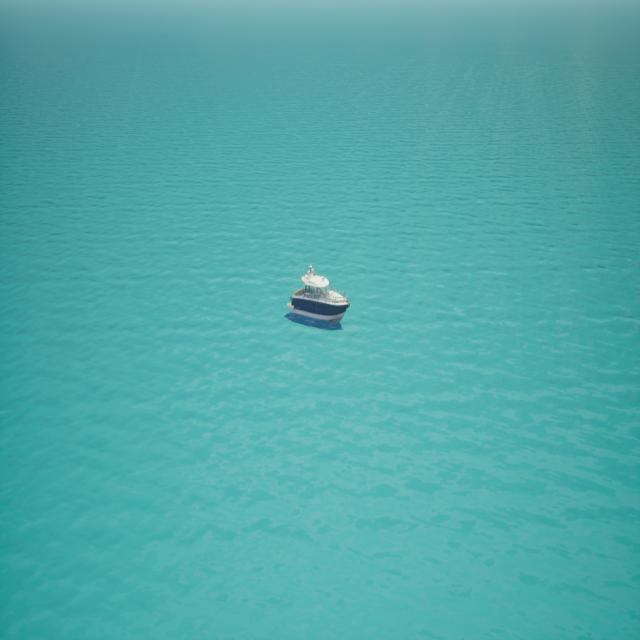ship: (285, 264, 349, 329)
